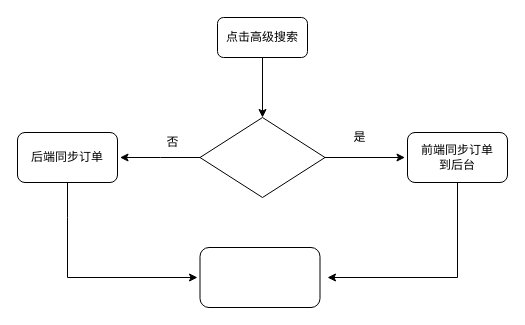
Some shapes in this 525 by 325 pixel diagram are drawn without their labels. Here are the shapes that lost their labels. From the top down, the centre of each, then its label:
At [262,157]: "用户版本 是否为初级".
At [259,277]: "开始高级搜索".
